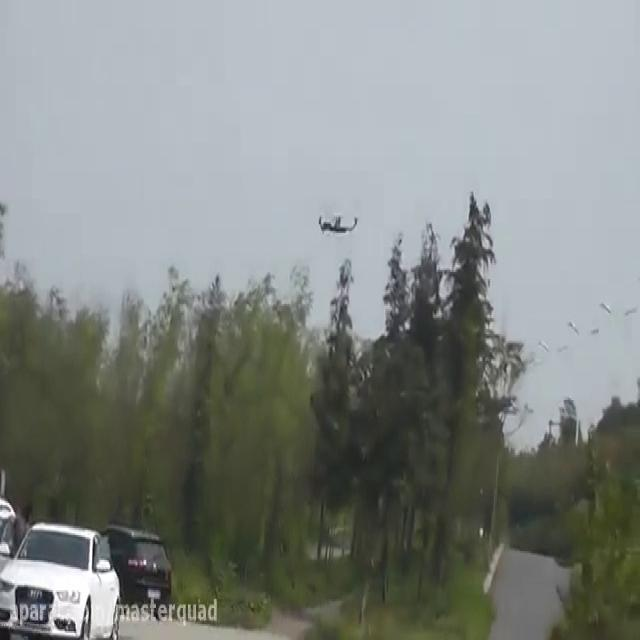drone: (315, 206, 362, 238)
